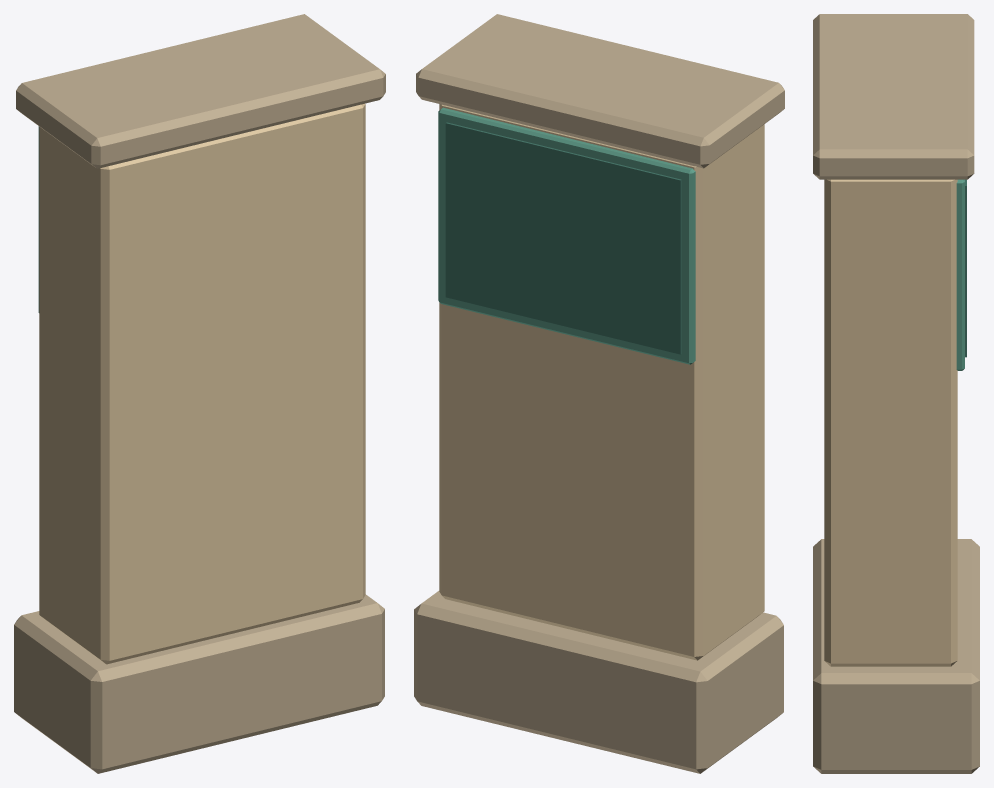
Rendered from plaque.glb.
3 renders of one model, left to right at view 1: azimuth 30°, elevation 25°; view 2: azimuth 150°, elevation 25°; view 3: azimuth 270°, elevation 25°, orthographic.
Visible parts, largest first — view 1: body; view 2: body; view 3: body.
Boxes of the visible parts, bbox=[...] form: body: bbox=[14, 14, 385, 773]; body: bbox=[414, 14, 784, 773]; body: bbox=[813, 14, 979, 773].
Bounding box in the file's own units: 0.6 × 1.24 × 0.3.
